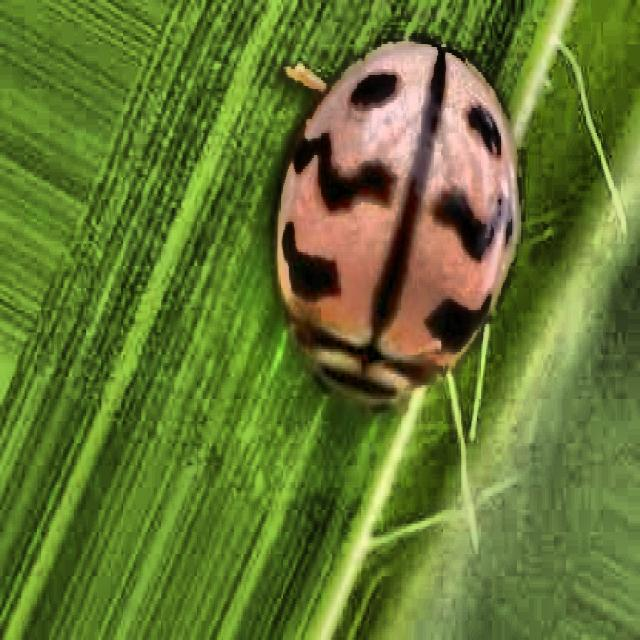Asian-Lady-beetle: (164, 0, 602, 484)
